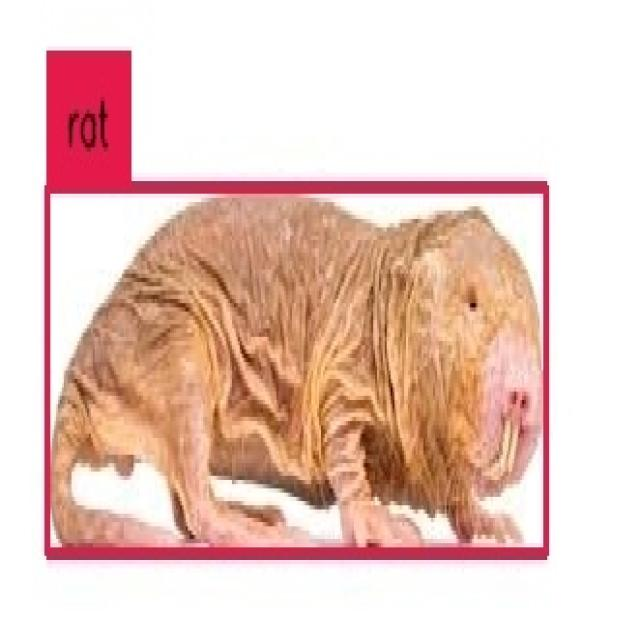rat: (48, 187, 546, 554)
